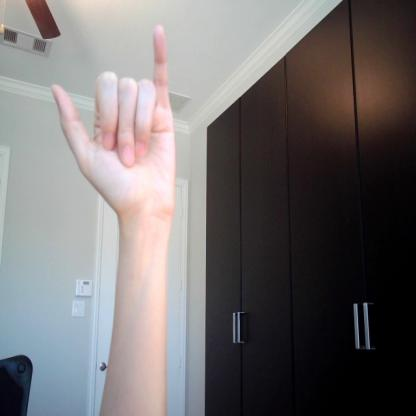Y: (49, 25, 180, 223)
